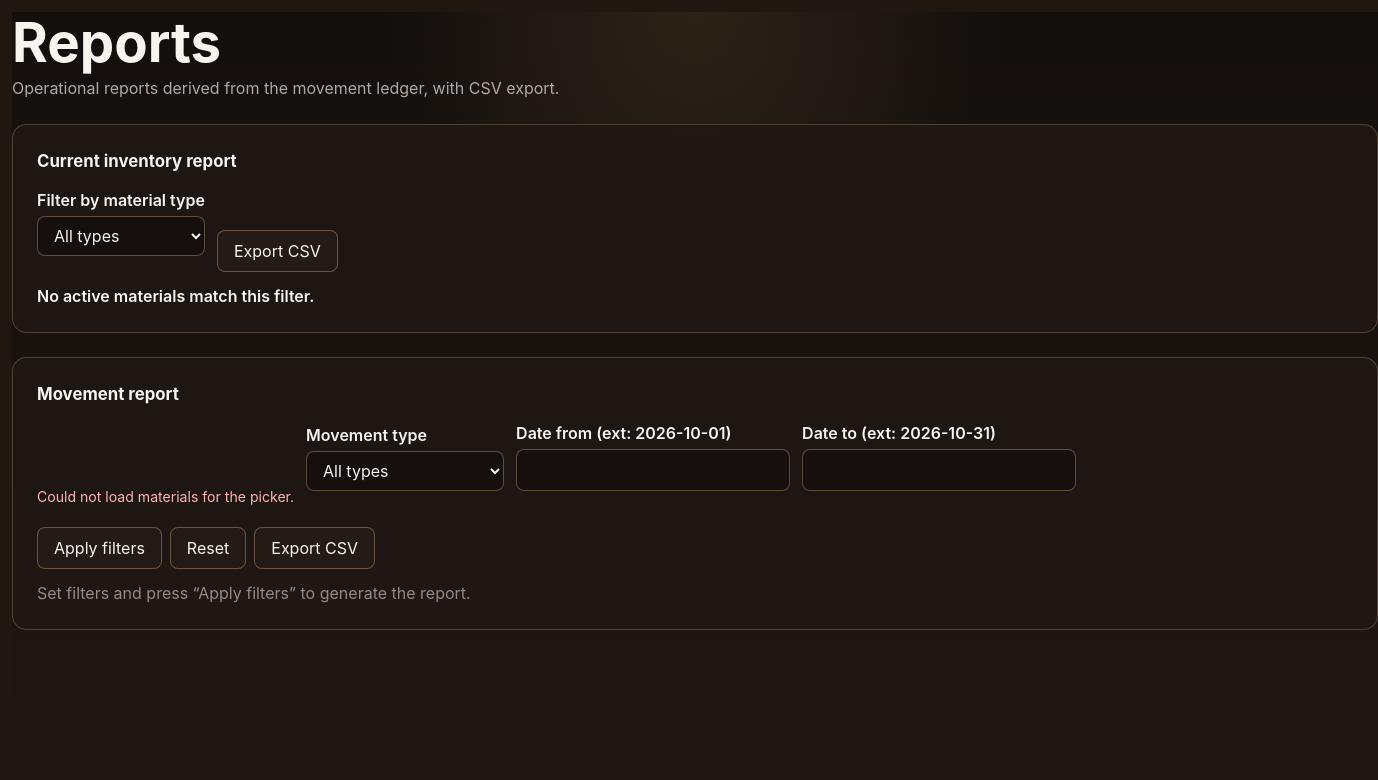
Scenario: ReportsPage › reports a failed export instead of leaving a broken download
Click the button "Export CSV" below "Filter by material type" at [277, 251], box [217, 230, 338, 272]
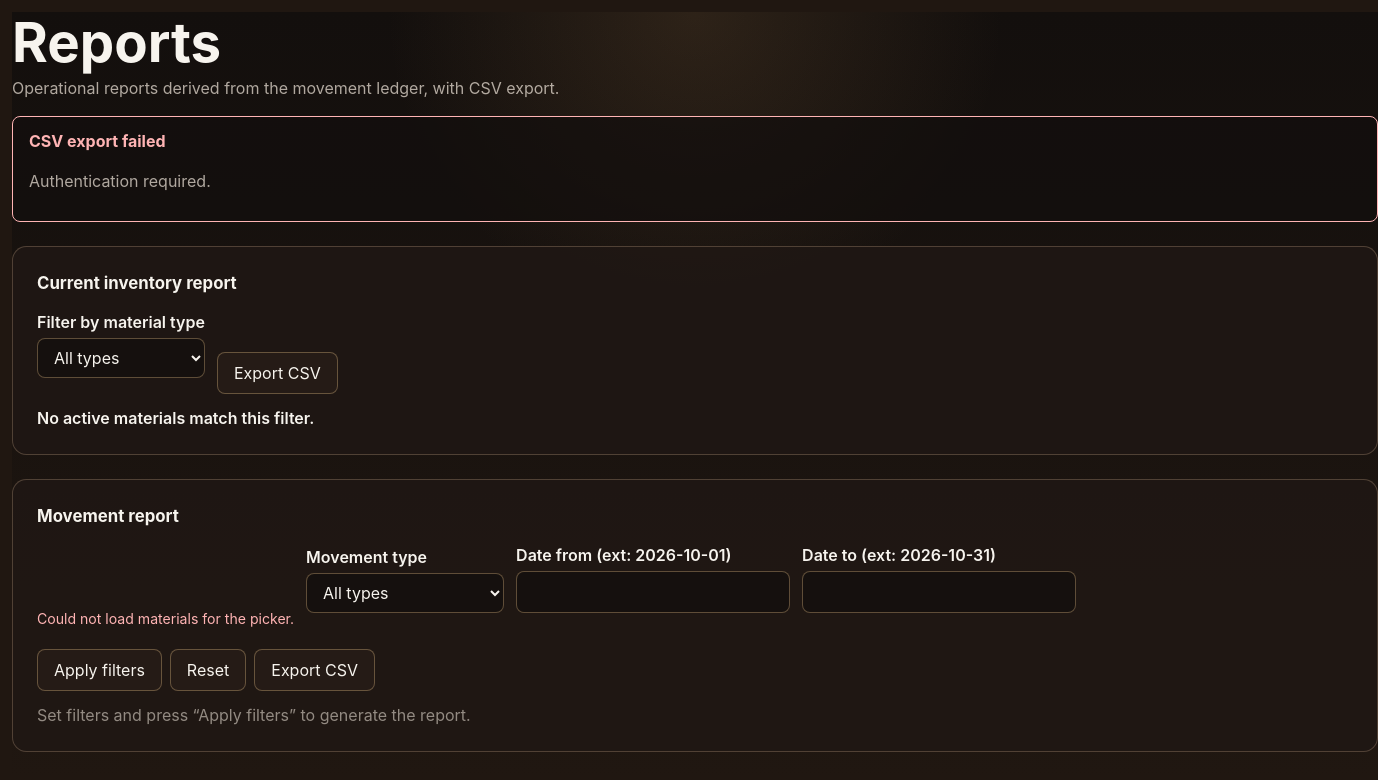
Now the text "CSV export failed" is shown, box [29, 131, 166, 151]
Now the text "Authentication required." is shown, box [29, 171, 211, 191]
